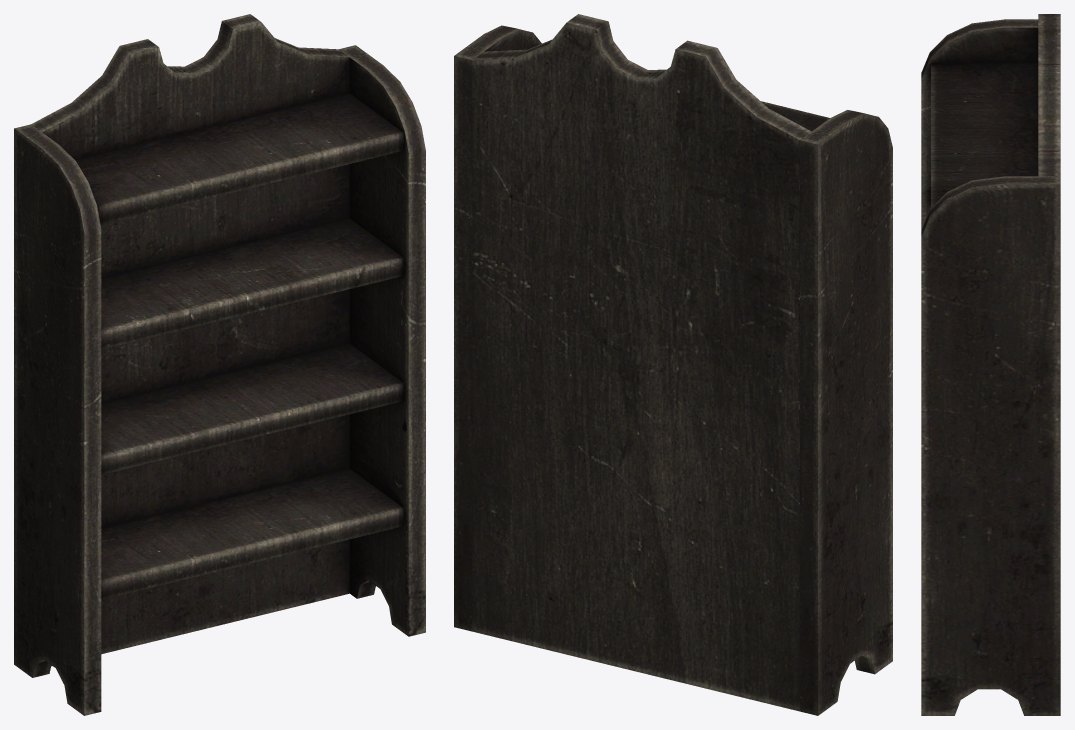
Rendered from shelf03.dae.
3 renders of one model, left to right at view 1: azimuth 30°, elevation 25°; view 2: azimuth 150°, elevation 25°; view 3: azimuth 270°, elevation 25°, orthographic. The views are drawn at different scales.
Visible parts, largest first — view 1: mesh_shelf01; view 2: mesh_shelf01; view 3: mesh_shelf01.
Part boxes in pixels (bbox=[...]): mesh_shelf01: bbox=[14, 14, 425, 715]; mesh_shelf01: bbox=[454, 14, 892, 715]; mesh_shelf01: bbox=[921, 14, 1060, 715].
Size of the model in its own units: 2 by 3.32 by 0.7112.
